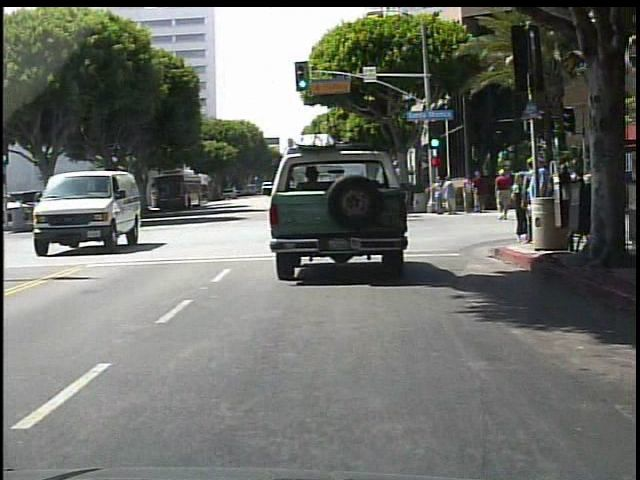person: (527, 156, 554, 253), (508, 170, 527, 244), (524, 155, 539, 246), (492, 169, 513, 221), (520, 178, 538, 227), (540, 172, 554, 219), (442, 178, 456, 218), (475, 170, 488, 212), (463, 176, 475, 214), (435, 179, 445, 217)
